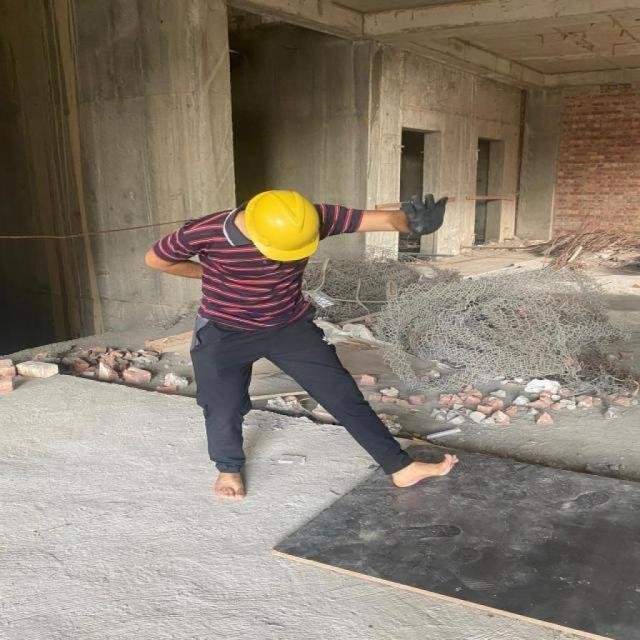Gloves-Detection: (404, 193, 443, 254)
